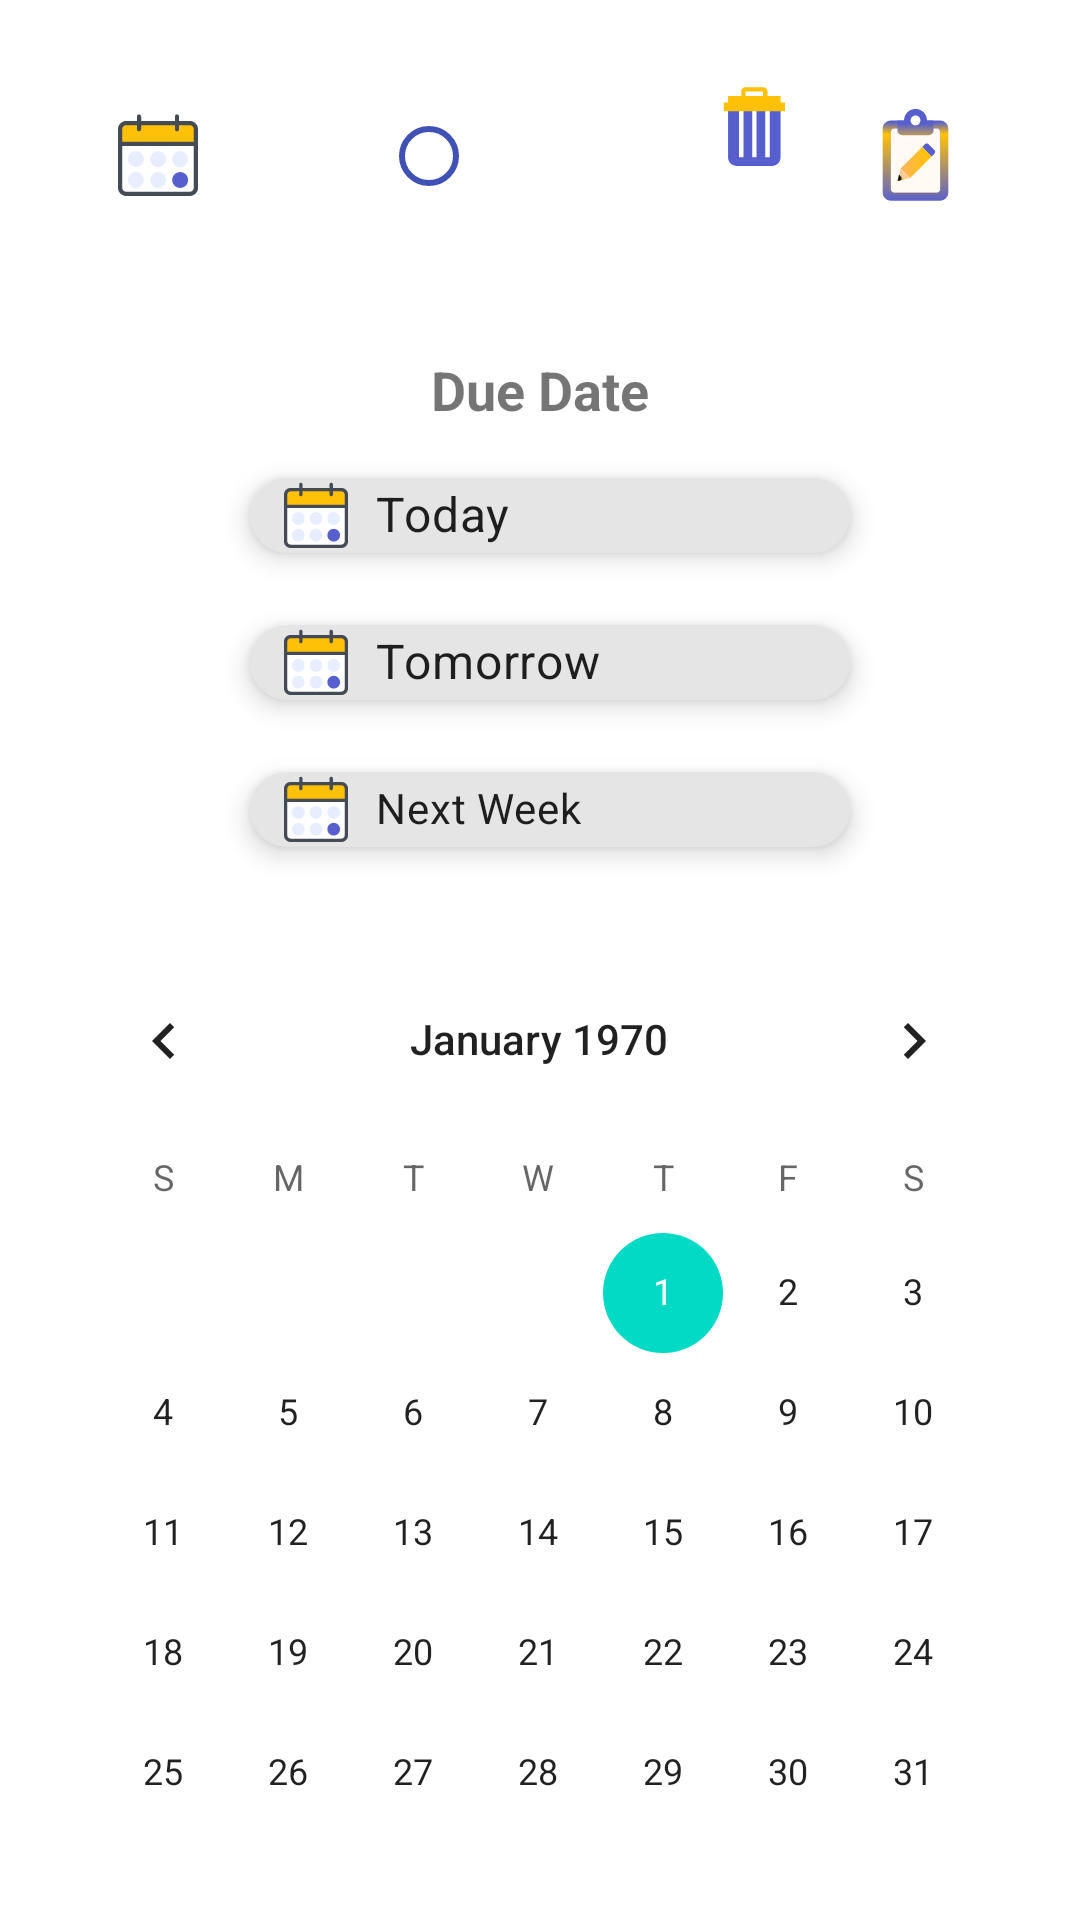

Icon bounding boxes for this 1080×1920 phone screenshot, format (x1, y1, x2, y2):
planner: (118, 114, 198, 196)
task: (882, 109, 949, 201)
trash can: (723, 87, 785, 166)
